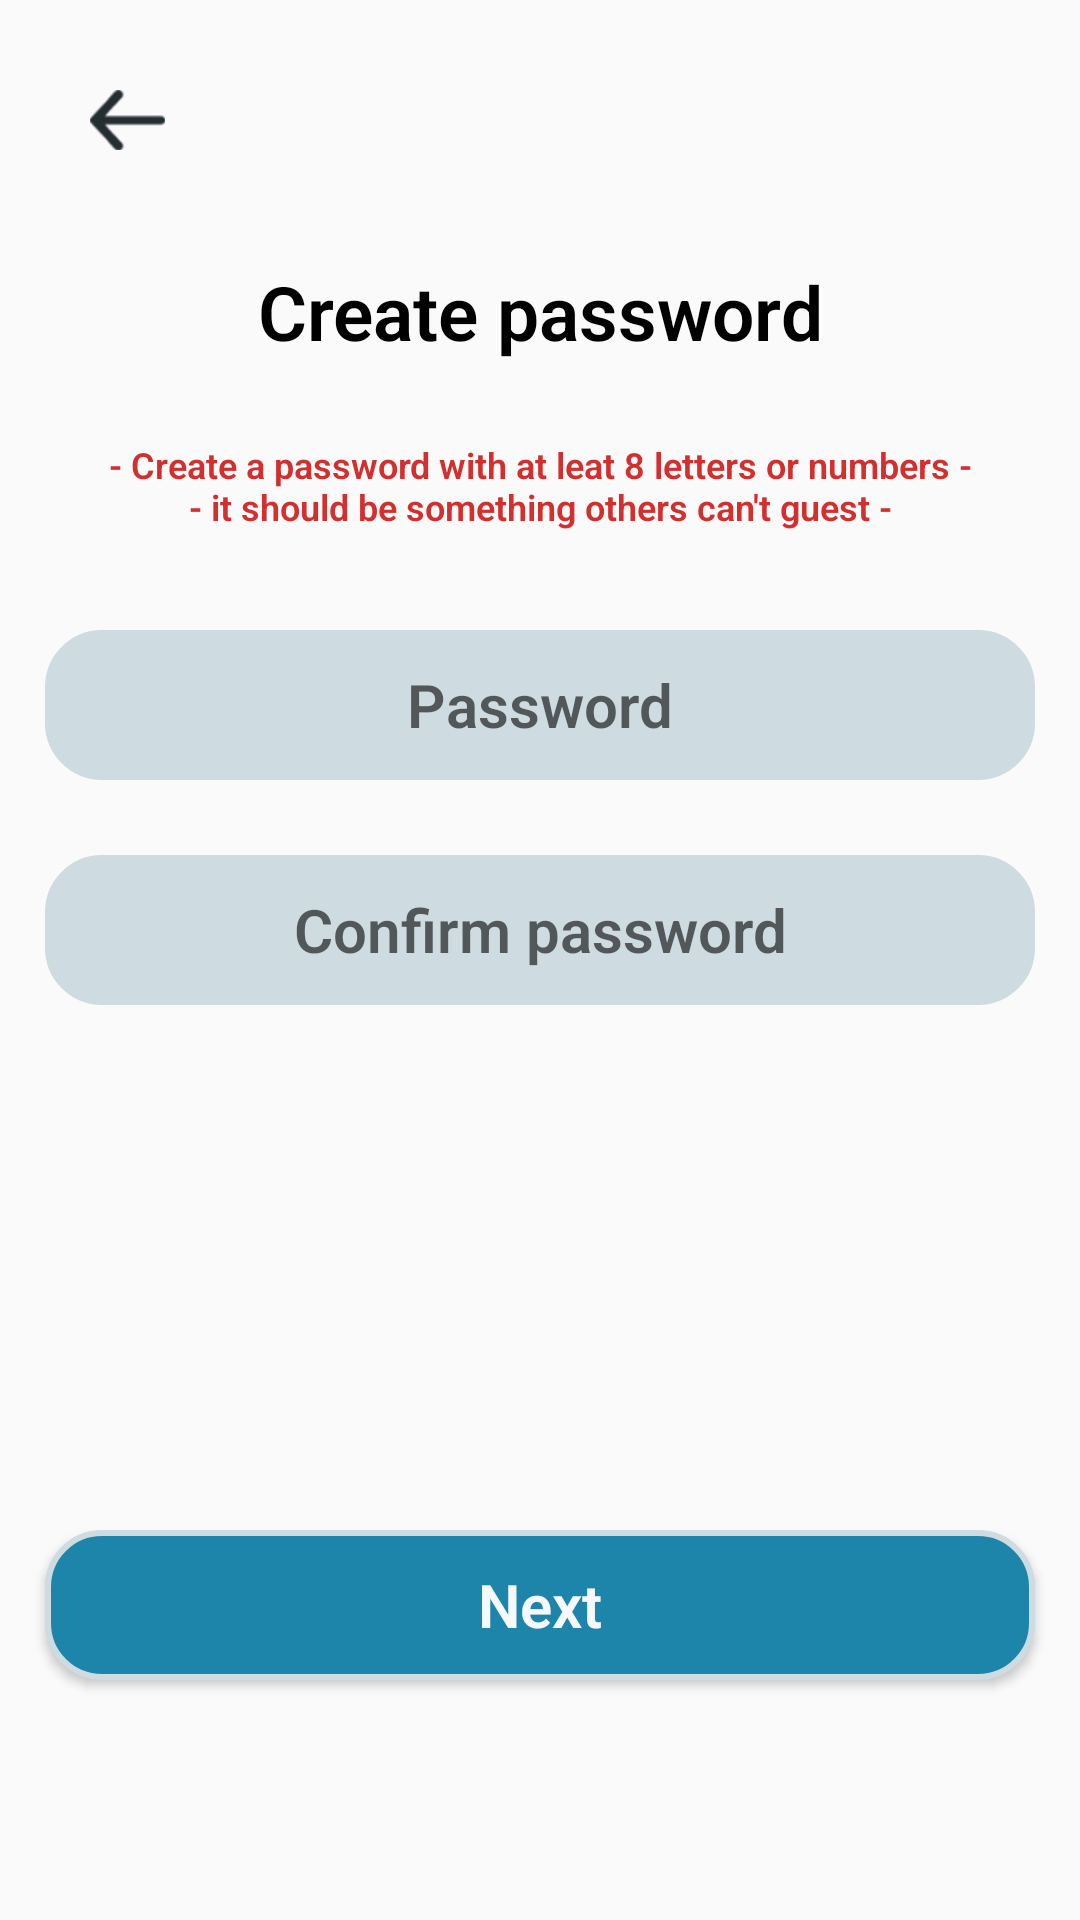

Icon bounding boxes for this 1080w x 1920h phone screenshot, format (x1, y1, x2, y2):
arrow: (90, 90, 165, 150)
